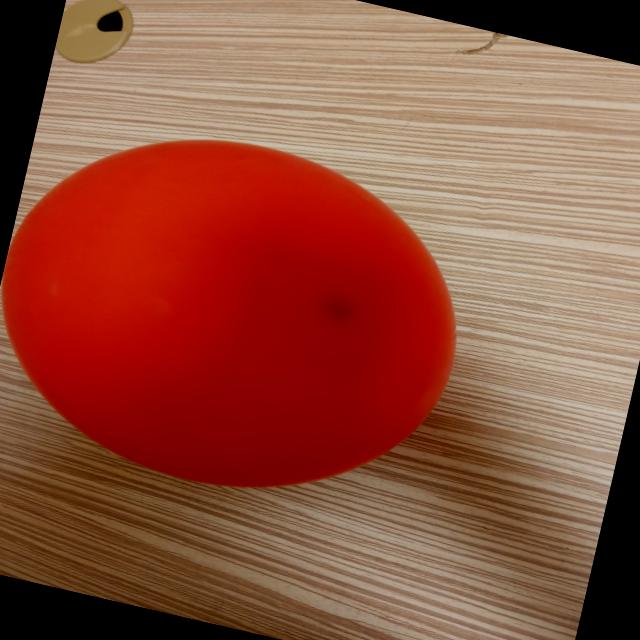balloon: (2, 140, 456, 487)
